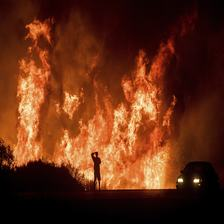fire: (20, 23, 192, 193)
